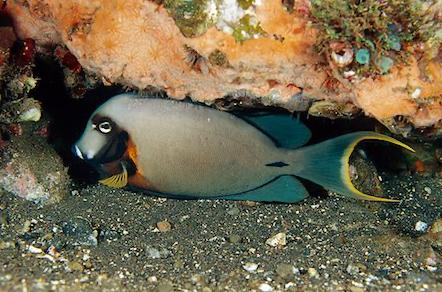Acanthuridae -Surgeonfishes-: (67, 86, 421, 215)
